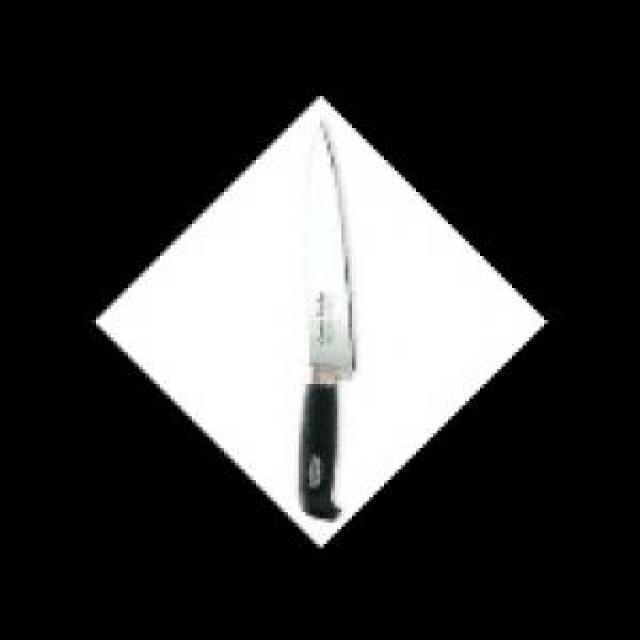knife: (294, 119, 347, 524)
